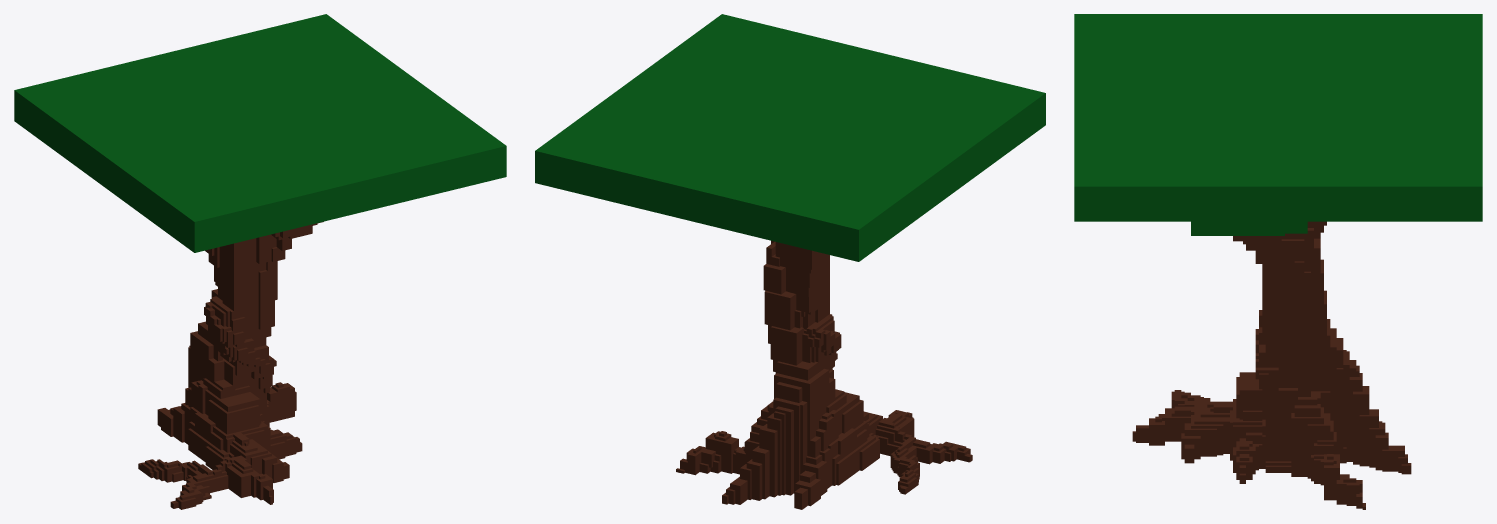
Rendered from tree_big.obj.
The picture shows the model from 3 angles, left to right: view 1: azimuth 30°, elevation 25°; view 2: azimuth 150°, elevation 25°; view 3: azimuth 270°, elevation 25°; orthographic projection. The views are drawn at different scales.
Size of the model in its own units: 12.6 by 12.6 by 12.6.
Materials: 1 (1 with a texture image).
